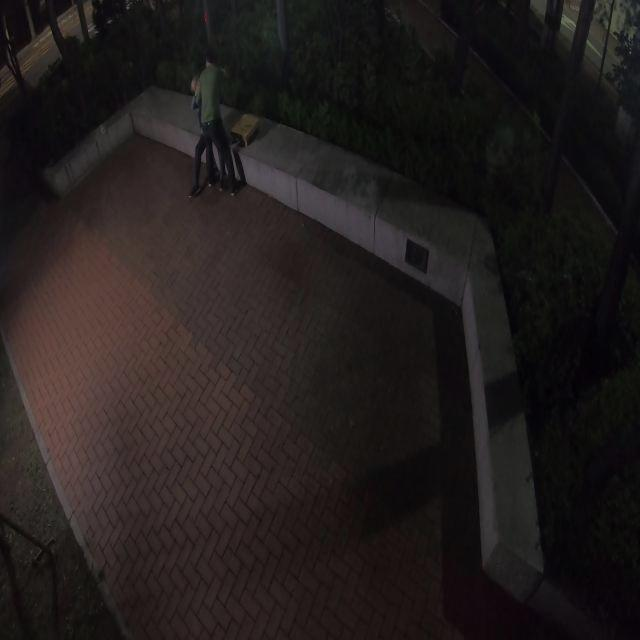fight: (183, 52, 240, 197)
